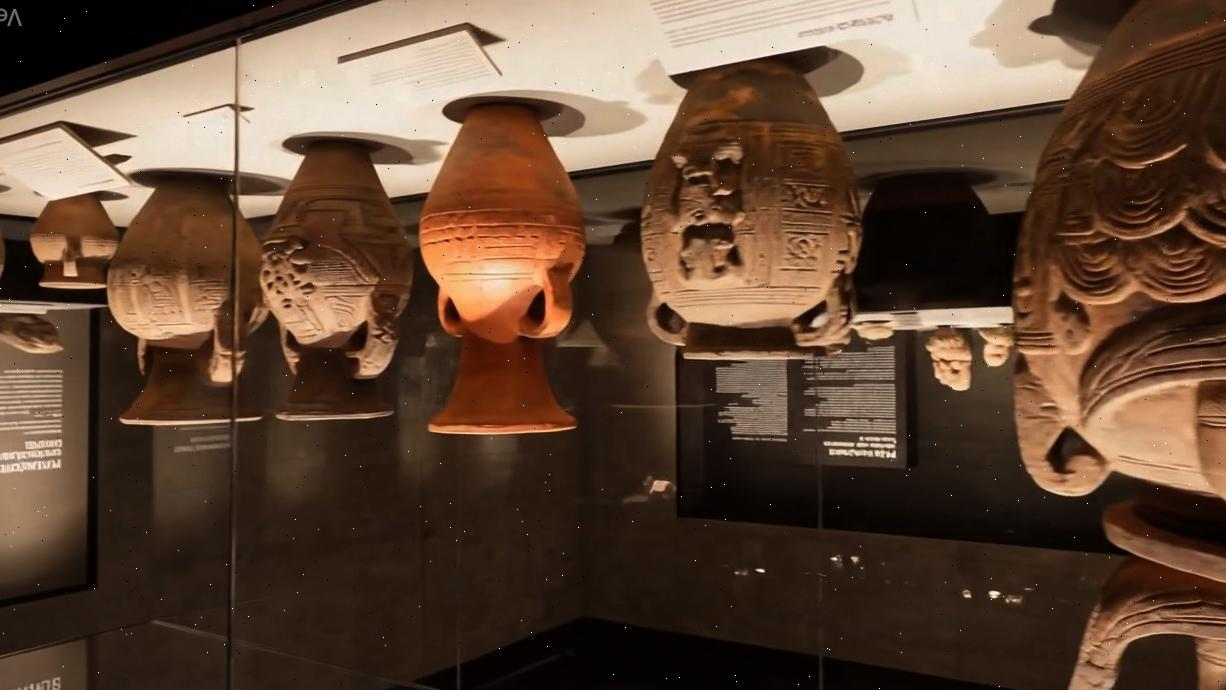manunggul_jar: (1003, 0, 1226, 690)
